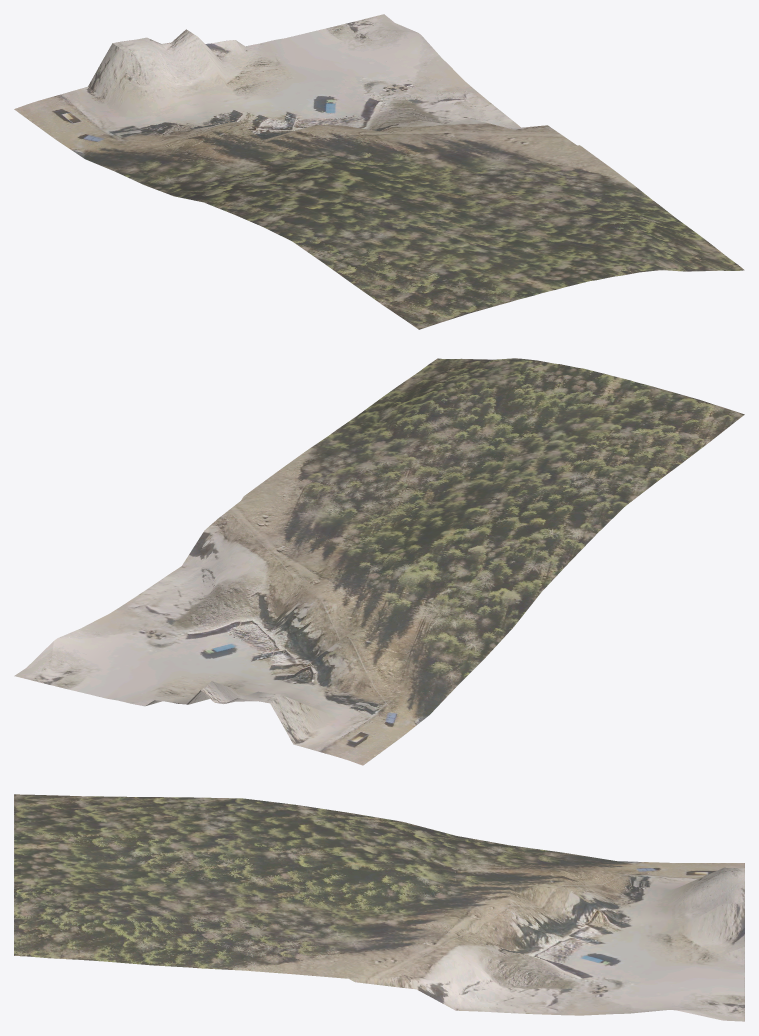
The model's file is CM_Terrain_24493940_6815084.fbx.
The picture shows the model from 3 angles, top to bottom: view 1: azimuth 30°, elevation 25°; view 2: azimuth 150°, elevation 25°; view 3: azimuth 270°, elevation 25°; orthographic projection. The views are drawn at different scales.
Visible parts, largest first — view 1: CM_Terrain_24493940_6815084_LOD0; view 2: CM_Terrain_24493940_6815084_LOD0; view 3: CM_Terrain_24493940_6815084_LOD0.
Boxes of the visible parts, left/top/right/bottom form: CM_Terrain_24493940_6815084_LOD0: left=14, top=14, right=744, bottom=329; CM_Terrain_24493940_6815084_LOD0: left=14, top=358, right=744, bottom=765; CM_Terrain_24493940_6815084_LOD0: left=14, top=794, right=744, bottom=1021.
Size of what is drawn, in the model's own units: 108 by 23.15 by 205.
